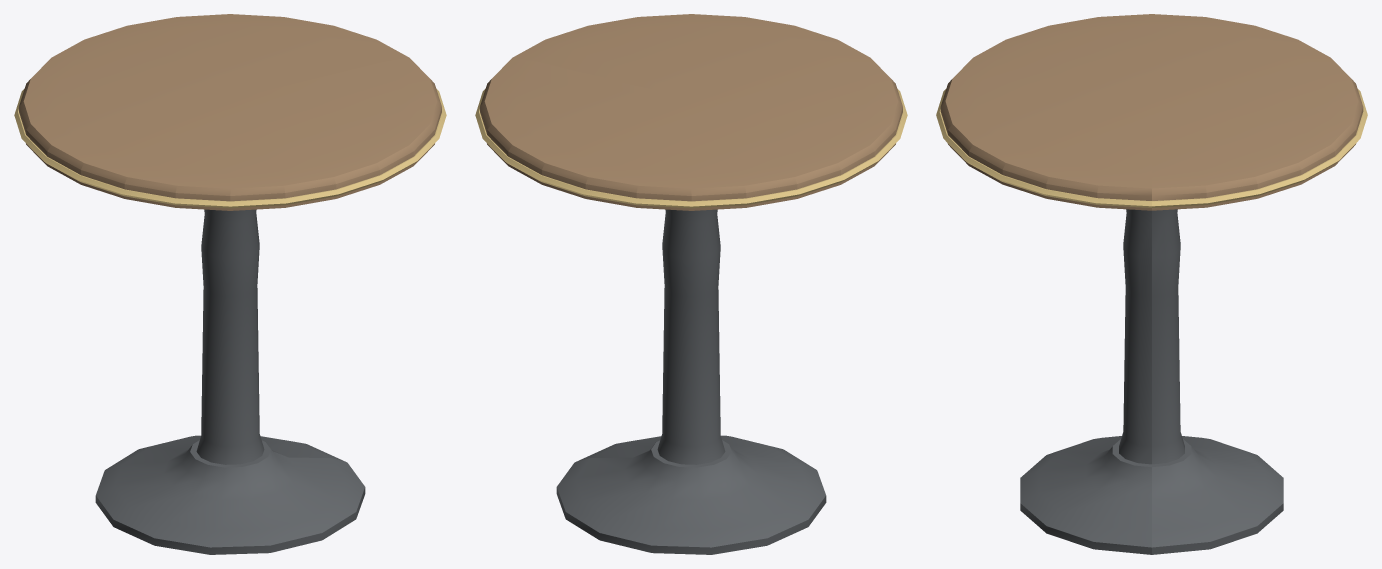
The model's file is bar-pub-and-brewery-taproom-pub-table-round-pedestal-3936d6f5.glb.
3 renders of one model, left to right at view 1: azimuth 30°, elevation 25°; view 2: azimuth 150°, elevation 25°; view 3: azimuth 270°, elevation 25°, orthographic.
Visible parts, largest first — view 1: pub-table-round-pedestal; view 2: pub-table-round-pedestal; view 3: pub-table-round-pedestal.
Boxes of the visible parts, x1,y1,x2,y2 form: pub-table-round-pedestal: [14, 14, 446, 554]; pub-table-round-pedestal: [475, 14, 907, 554]; pub-table-round-pedestal: [936, 14, 1367, 554].
Bounding box in the file's own units: 0.736 × 0.75 × 0.736.
